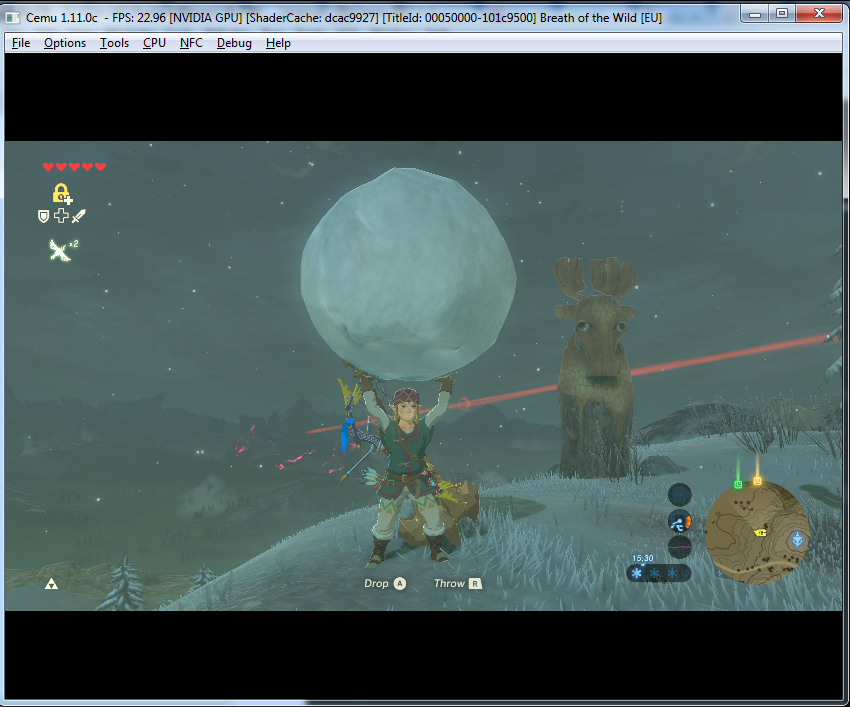link: (331, 356, 489, 569)
snowball: (290, 163, 524, 383)
totem: (546, 247, 649, 485)
